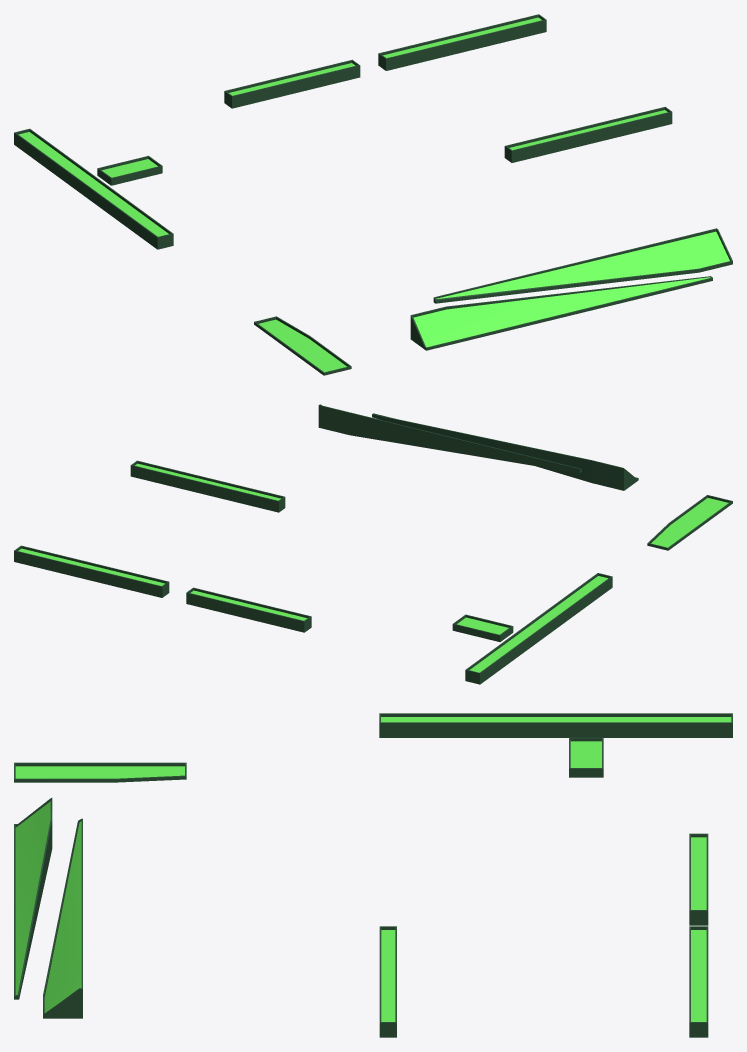
The model's file is MSH_Jardineras.FBX.
The picture shows the model from 3 angles, top to bottom: view 1: azimuth 30°, elevation 25°; view 2: azimuth 150°, elevation 25°; view 3: azimuth 270°, elevation 25°; orthographic projection. The views are drawn at different scales.
Visible parts, largest first — view 1: MSH_Jardineras.001, MSH_Jardineras, MSH_Jardineras.003, MSH_Jardineras.004, MSH_Jardineras.002; view 2: MSH_Jardineras.001, MSH_Jardineras, MSH_Jardineras.003, MSH_Jardineras.004, MSH_Jardineras.002; view 3: MSH_Jardineras.003, MSH_Jardineras.001, MSH_Jardineras, MSH_Jardineras.002, MSH_Jardineras.004.
Boxes of the visible parts, x1,y1,x2,y2 form: MSH_Jardineras.001: (410, 228, 732, 350); MSH_Jardineras: (224, 14, 546, 108); MSH_Jardineras.003: (14, 128, 173, 249); MSH_Jardineras.004: (504, 106, 672, 162); MSH_Jardineras.002: (254, 316, 351, 375); MSH_Jardineras.001: (318, 404, 638, 490); MSH_Jardineras: (14, 545, 311, 632); MSH_Jardineras.003: (452, 573, 612, 684); MSH_Jardineras.004: (130, 460, 285, 512); MSH_Jardineras.002: (647, 495, 732, 550); MSH_Jardineras.003: (379, 713, 732, 777); MSH_Jardineras.001: (14, 798, 82, 1018); MSH_Jardineras: (689, 833, 708, 1037); MSH_Jardineras.002: (14, 762, 186, 782); MSH_Jardineras.004: (379, 926, 396, 1037).
Size of the model in its own units: 4448 by 280 by 4367.
